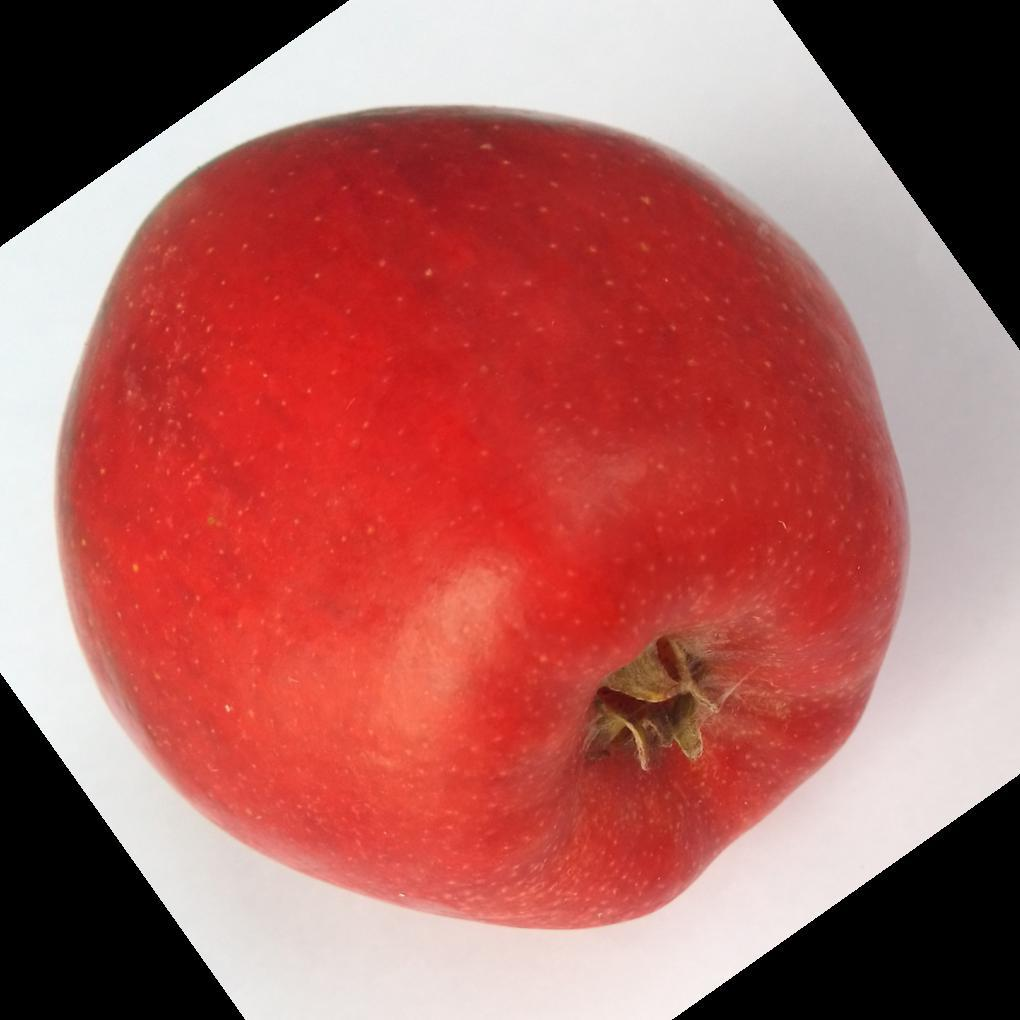FreshGuava: (49, 106, 910, 937)
